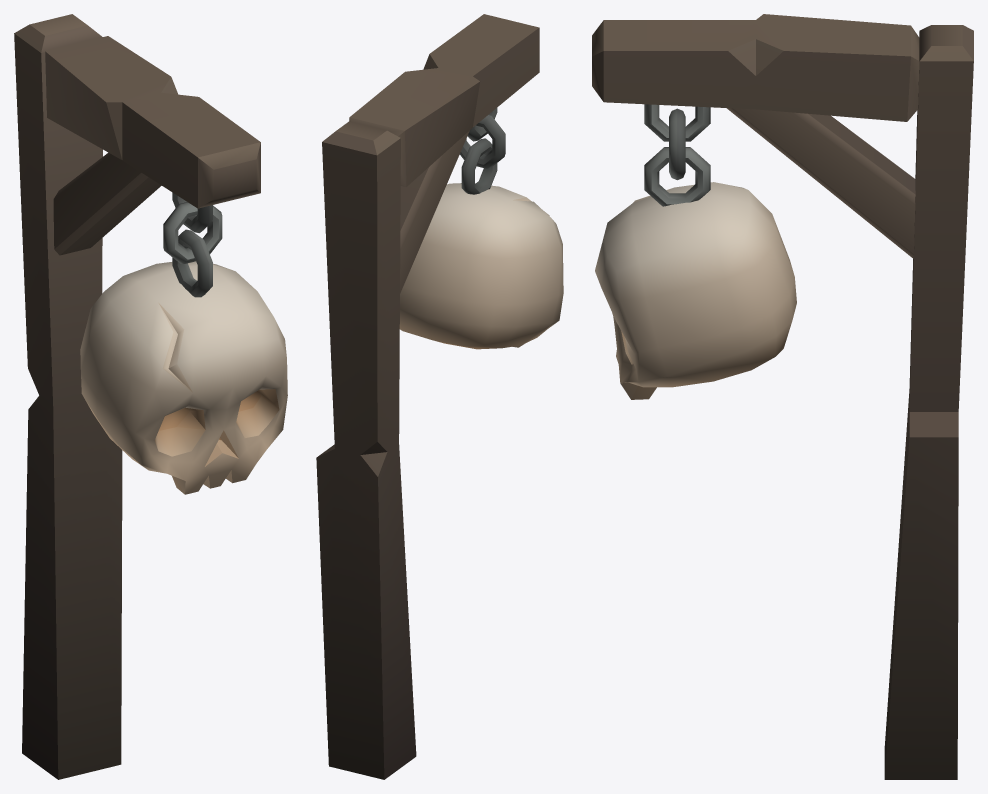
File: post-skull.glb
The picture shows the model from 3 angles, left to right: view 1: azimuth 30°, elevation 25°; view 2: azimuth 150°, elevation 25°; view 3: azimuth 270°, elevation 25°; orthographic projection. The views are drawn at different scales.
Parts seen in each view (by area): view 1: post-skull; view 2: post-skull; view 3: post-skull.
Boxes of the visible parts, x1,y1,x2,y2 form: post-skull: (14,14,287,779); post-skull: (316,14,563,779); post-skull: (592,14,973,779).
Bounding box in the file's own units: 0.4902 × 2 × 0.9493.
